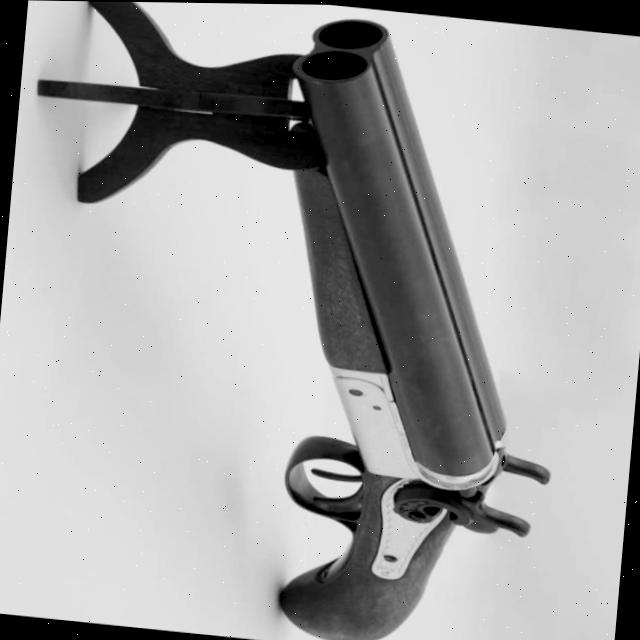firearm: (239, 9, 588, 640)
